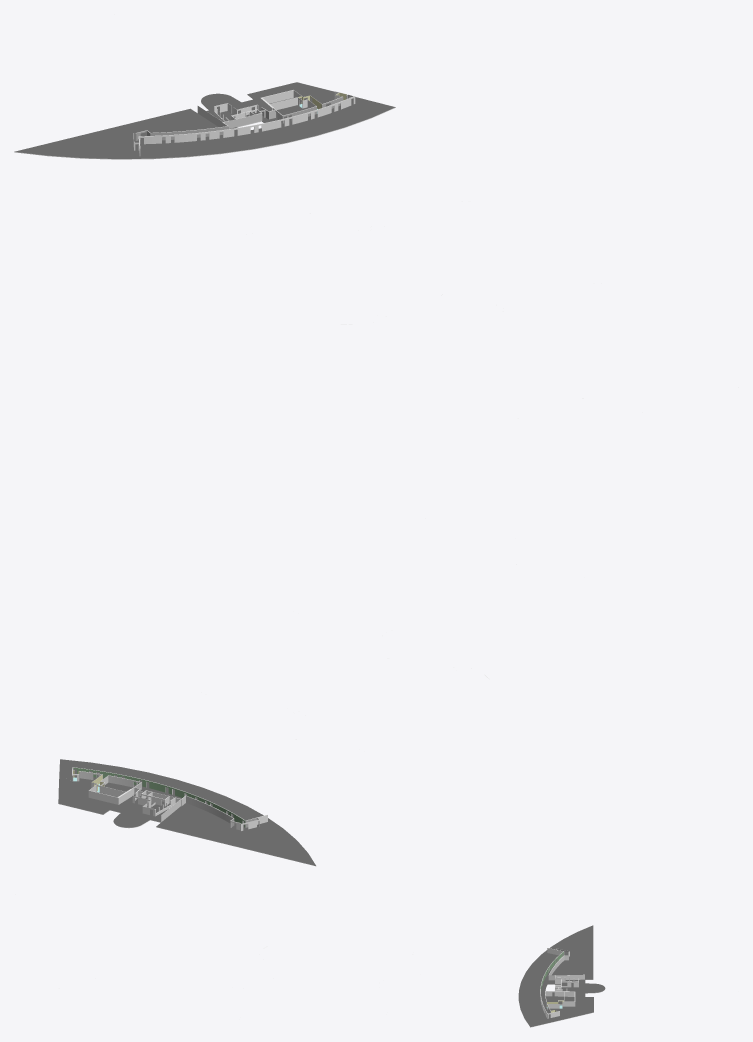
The picture shows the model from 3 angles, top to bottom: view 1: azimuth 30°, elevation 25°; view 2: azimuth 150°, elevation 25°; view 3: azimuth 270°, elevation 25°; orthographic projection. The views are drawn at different scales.
Visible parts, largest first — view 1: Model; view 2: Model; view 3: Model.
Boxes of the visible parts, <box> form: Model: <box>14,82,395,324</box>; Model: <box>58,668,489,866</box>; Model: <box>259,925,605,1027</box>.
Size of the model in its own units: 113493 by 2672 by 335067.
